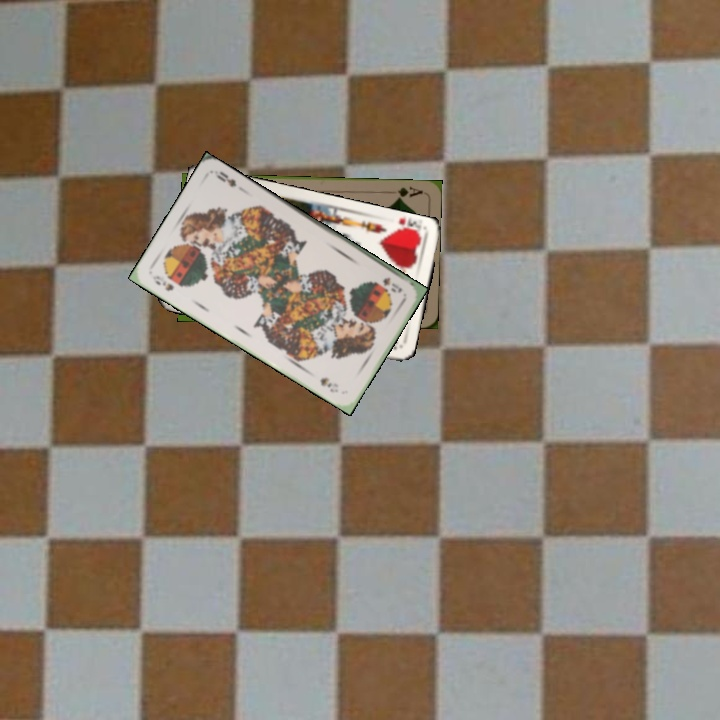GA: (385, 183, 425, 202)
HK: (389, 214, 424, 239)
SO: (149, 271, 177, 294), (379, 273, 405, 295)
